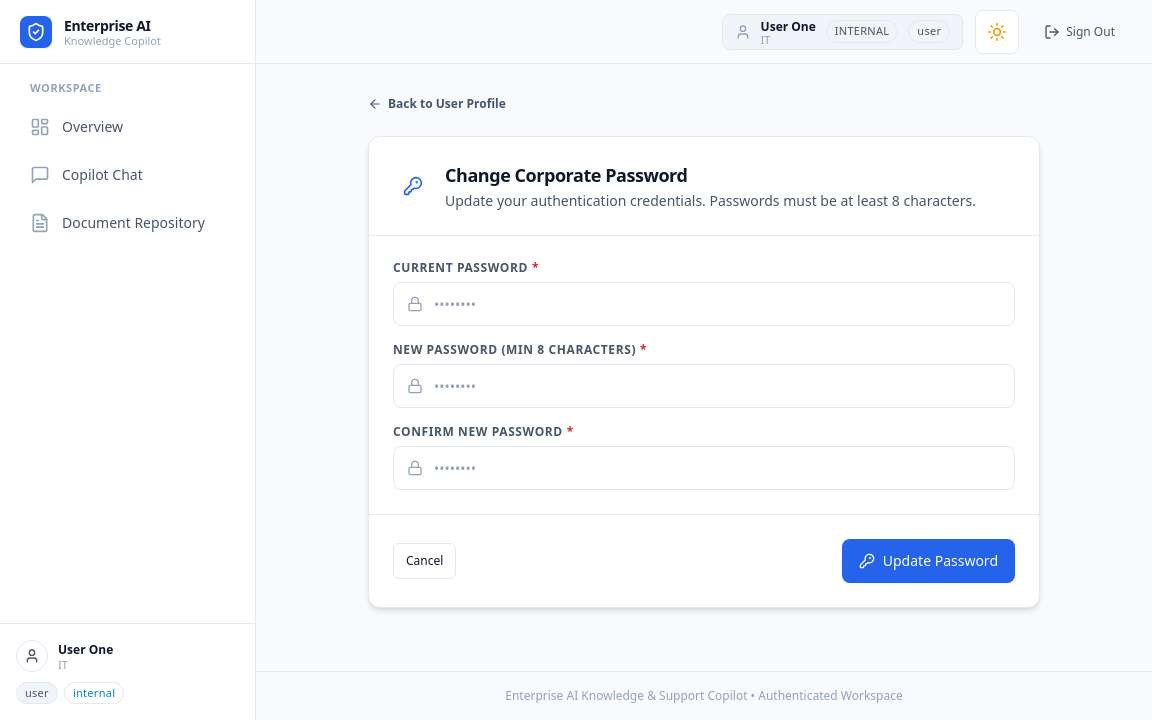
Test case: ChangePasswordPage Integration Tests › 2. Shows client-side validation error when password is under 8 characters
Type "CurrentPassword123!" into the password field labelled "Current Password*".
click(704, 304); type("CurrentPassword123!")  # box [393,282,1015,326]
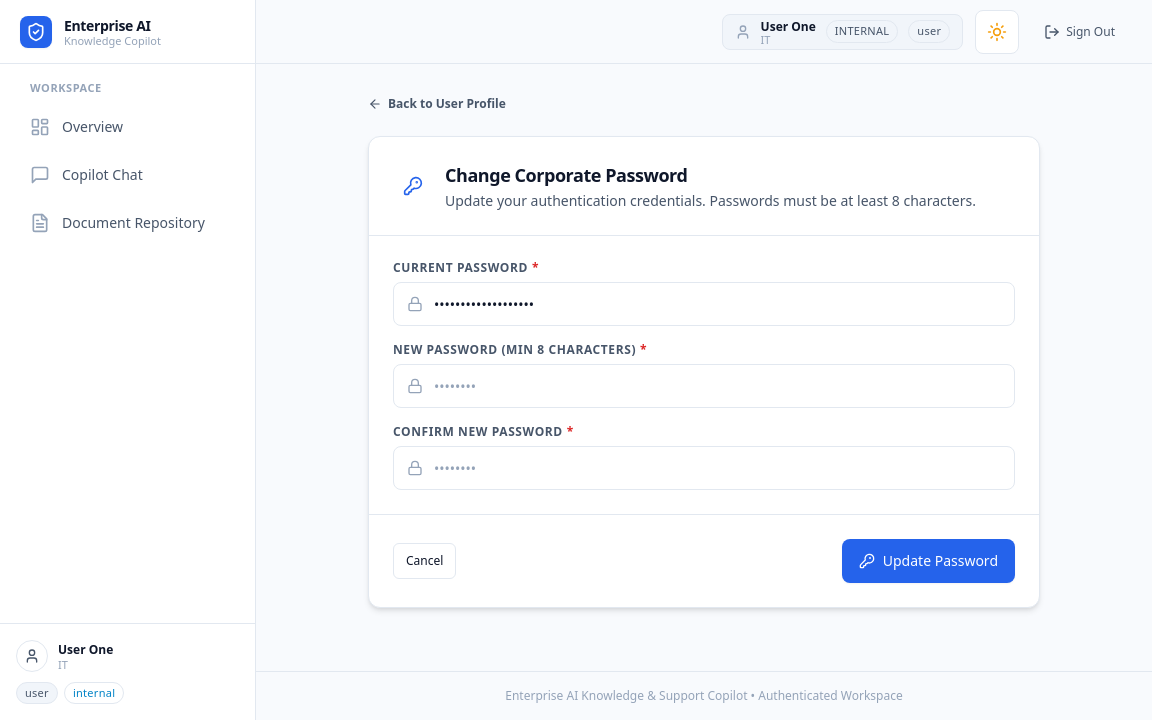
Type "short" into the password field labelled "New Password (min 8 characters)*".
click(704, 386); type("short")  # box [393,364,1015,408]
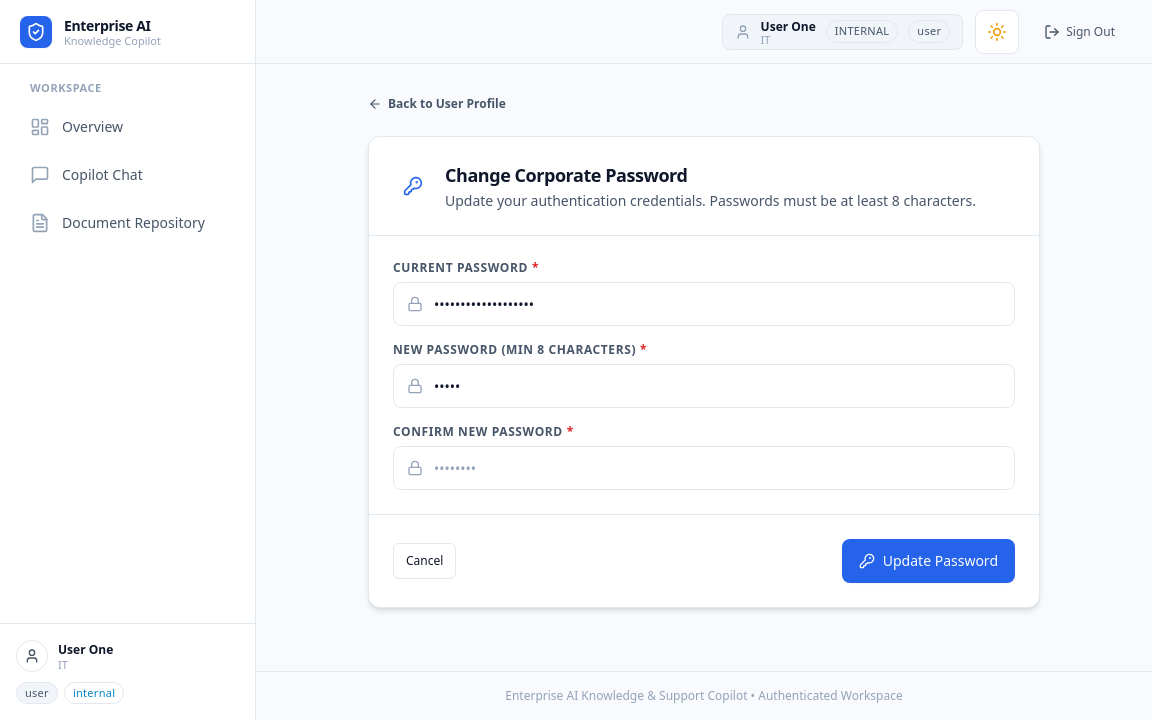
Type "short" into the password field labelled "Confirm New Password*".
click(704, 468); type("short")  # box [393,446,1015,490]
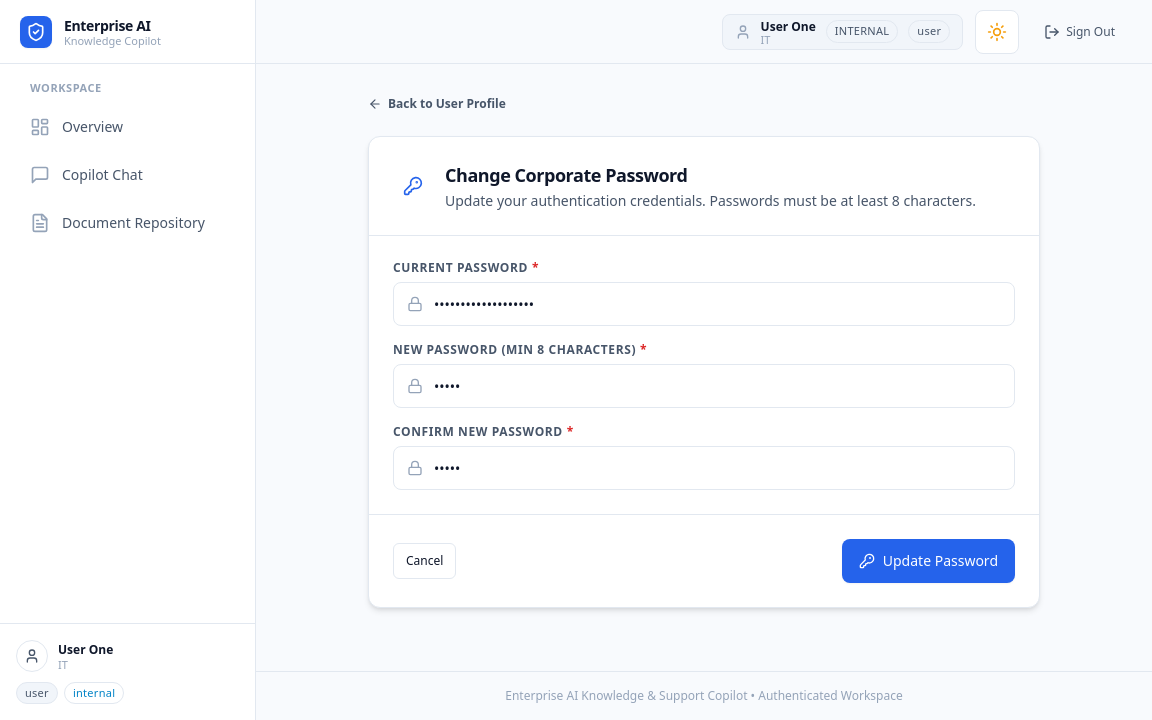
Click the button "Update Password".
click(928, 561)  # box [842,539,1015,583]
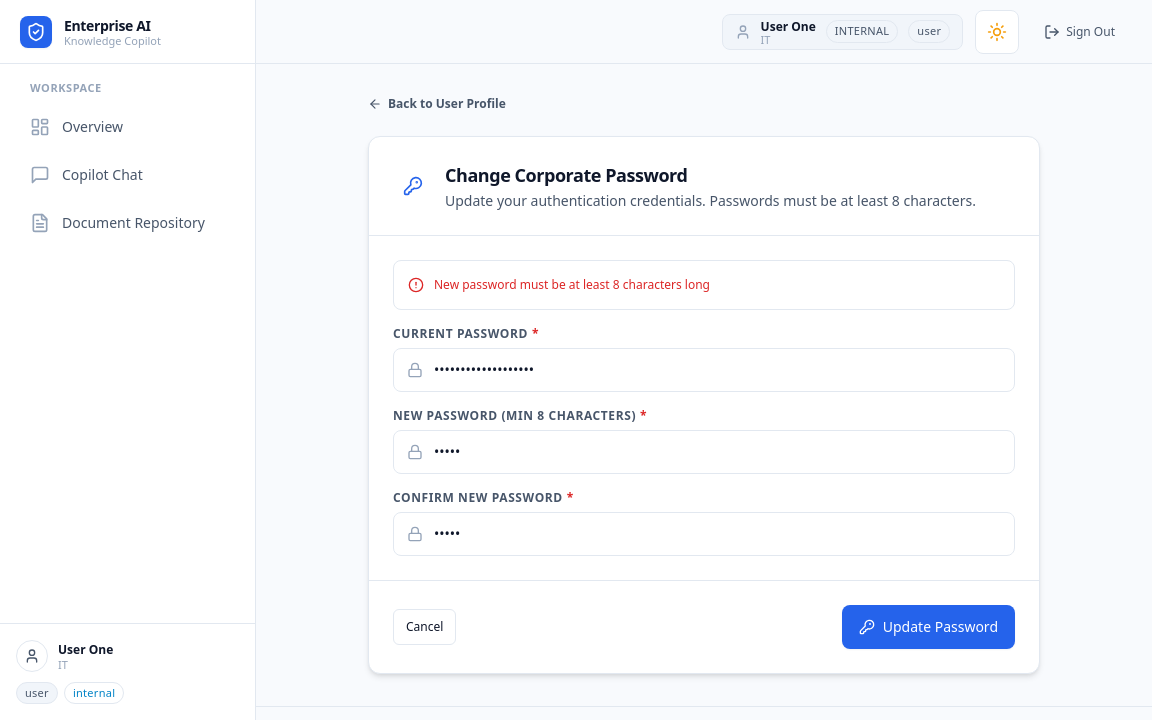
Result: the text "New password must be at least 8 characters long" is shown at [434,276,710,293]
